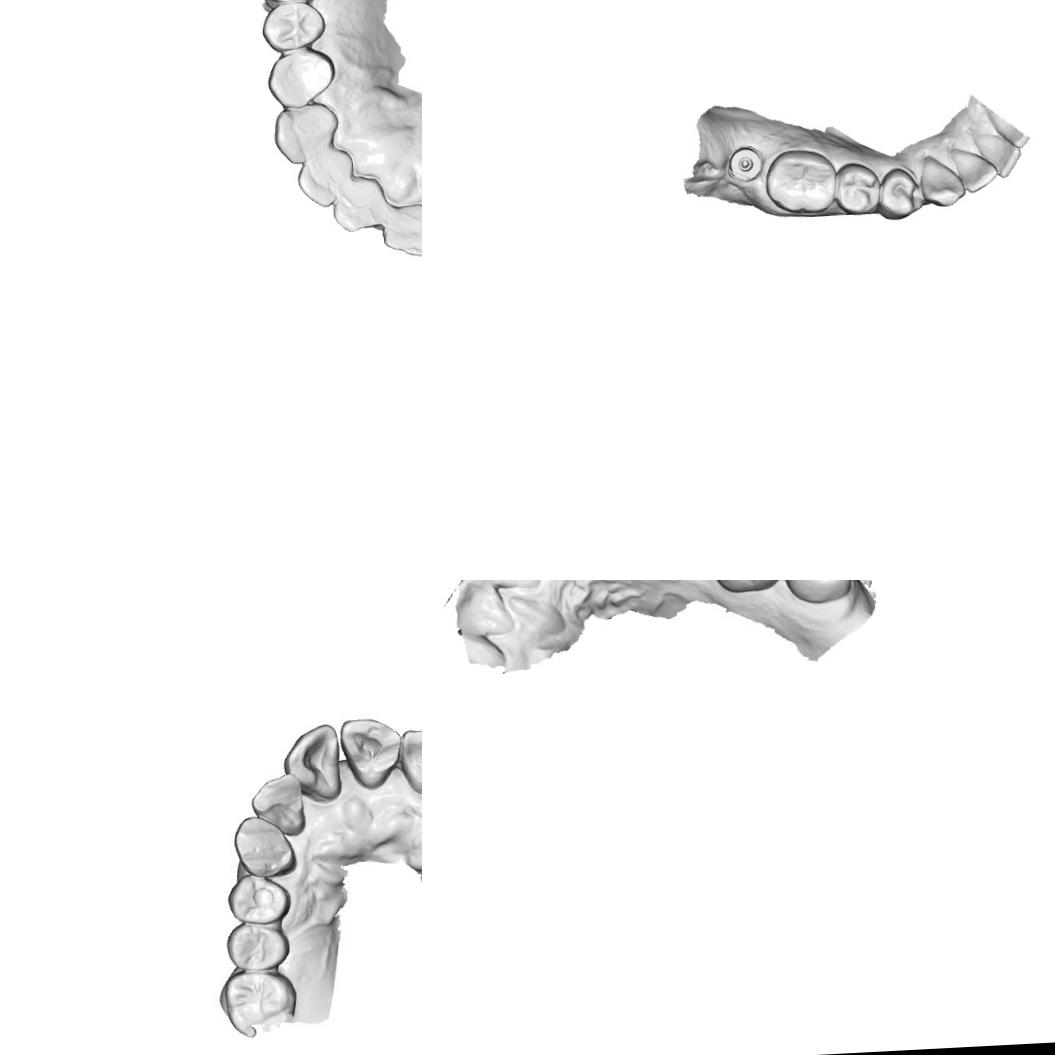canine: (230, 812, 298, 880), (271, 104, 341, 162), (917, 151, 968, 209)
implant: (726, 144, 764, 184)
incisor: (338, 713, 406, 791), (279, 720, 342, 804), (248, 770, 307, 839), (445, 580, 516, 637), (327, 177, 386, 235), (294, 149, 350, 210), (969, 128, 1023, 181), (948, 144, 1000, 194), (378, 208, 422, 259), (396, 725, 422, 796)
molar: (219, 968, 300, 1040), (760, 145, 838, 216), (778, 580, 853, 607)
premolar: (264, 47, 337, 110), (256, 0, 328, 51), (225, 870, 292, 924), (222, 922, 294, 972), (831, 158, 883, 218), (874, 162, 920, 222)
